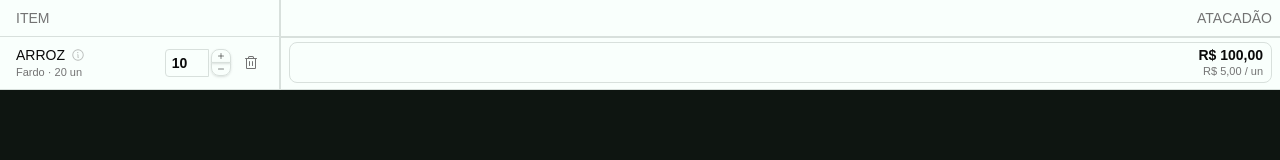
Test case: valor inválido não dispara o PATCH e o campo volta ao valor anterior
Expected: the text "Arroz" is shown, [16,45,65,65]
Clear the number field named "Quantidade de Arroz" at (187, 63), box [165,49,209,77]
Leave the number field named "Quantidade de Arroz", box [165,49,209,77]
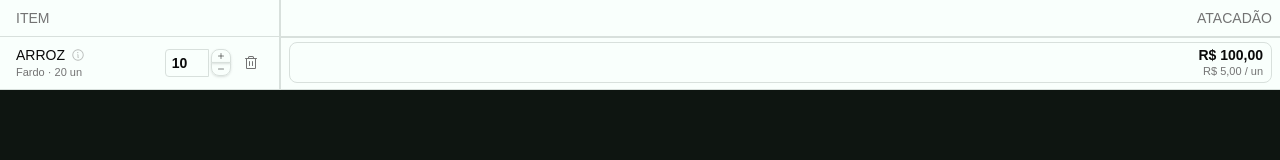
Expected: the number field named "Quantidade de Arroz" holds "10"
Replace the text in the number field named "Quantidade de Arroz" with "0" at (187, 63), box [165,49,209,77]
Leave the number field named "Quantidade de Arroz", box [165,49,209,77]
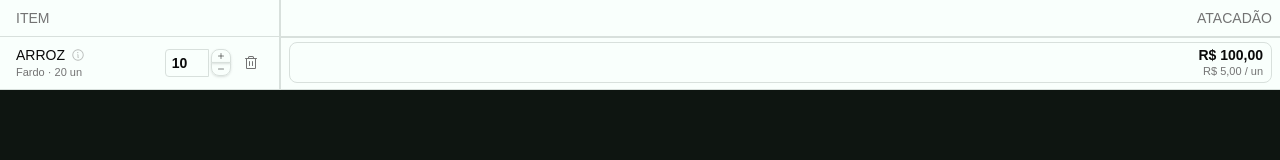
Expected: the number field named "Quantidade de Arroz" holds "10"
Replace the text in the number field named "Quantidade de Arroz" with "-1" at (187, 63), box [165,49,209,77]
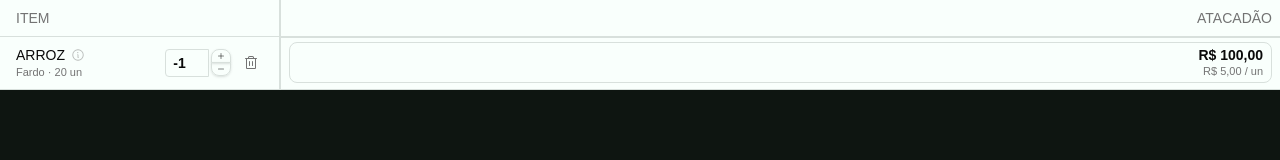
Leave the number field named "Quantidade de Arroz", box [165,49,209,77]
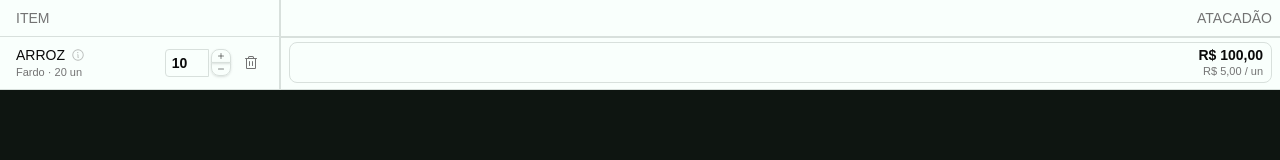
Expected: the number field named "Quantidade de Arroz" holds "10"
Replace the text in the number field named "Quantidade de Arroz" with "abc" at (187, 63), box [165,49,209,77]
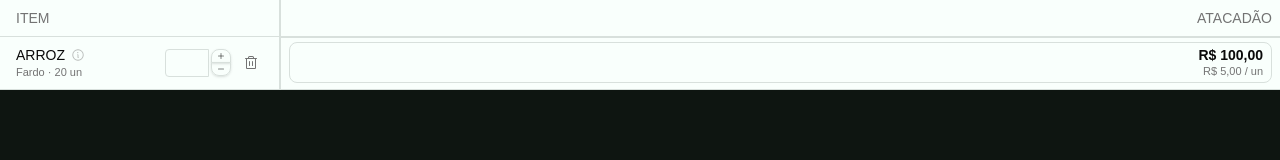
Leave the number field named "Quantidade de Arroz", box [165,49,209,77]
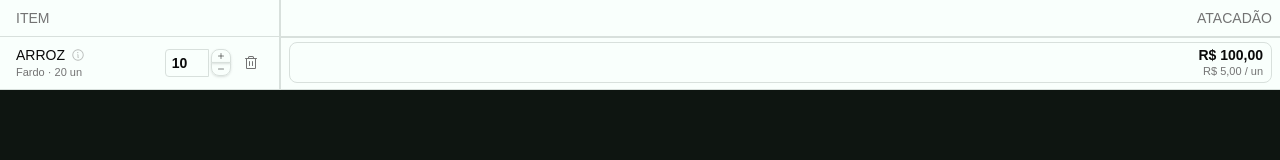
Expected: the number field named "Quantidade de Arroz" holds "10", [165,49,209,77]
